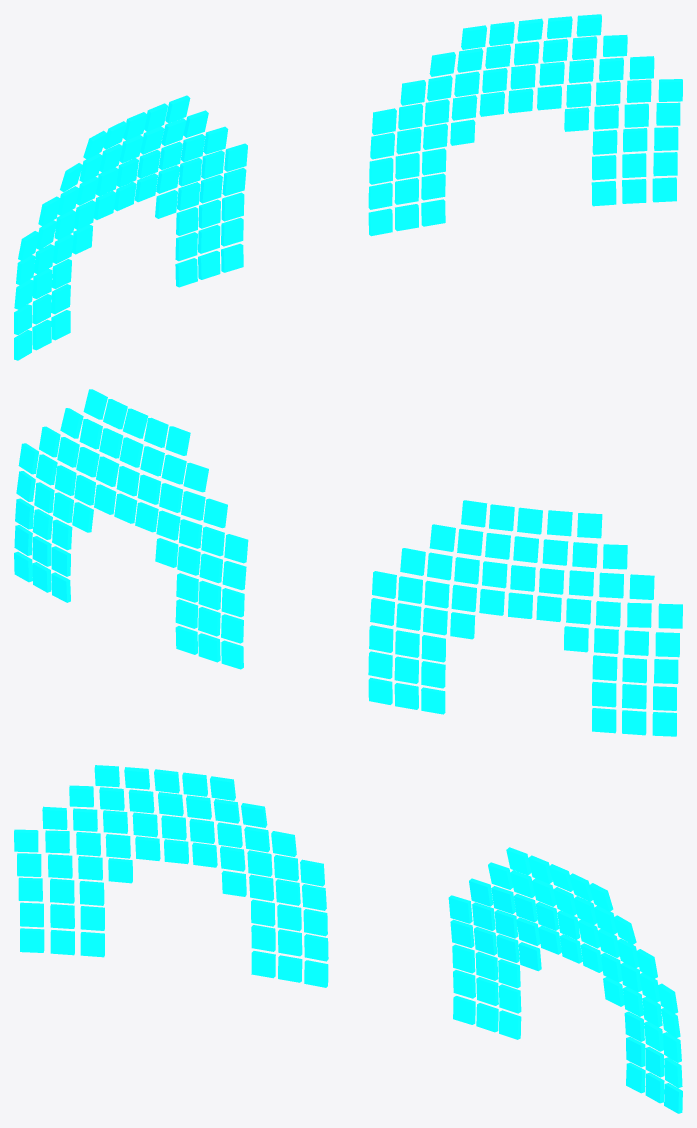
The model's file is chr_bunny01_expression_happy_visual_top3d.glb.
The picture shows the model from 3 angles, top to bottom: view 1: azimuth 30°, elevation 25°; view 2: azimuth 150°, elevation 25°; view 3: azimuth 330°, elevation 25°; orthographic projection.
Parts seen in each view (by area): view 1: ExpressionPixels; view 2: ExpressionPixels; view 3: ExpressionPixels.
Boxes of the visible parts, box(x1,y1,x2,y2) form: ExpressionPixels: box(14, 14, 682, 360); ExpressionPixels: box(14, 389, 682, 736); ExpressionPixels: box(14, 765, 682, 1113).
Bounding box in the file's own units: 0.3796 × 0.1112 × 0.0502.
